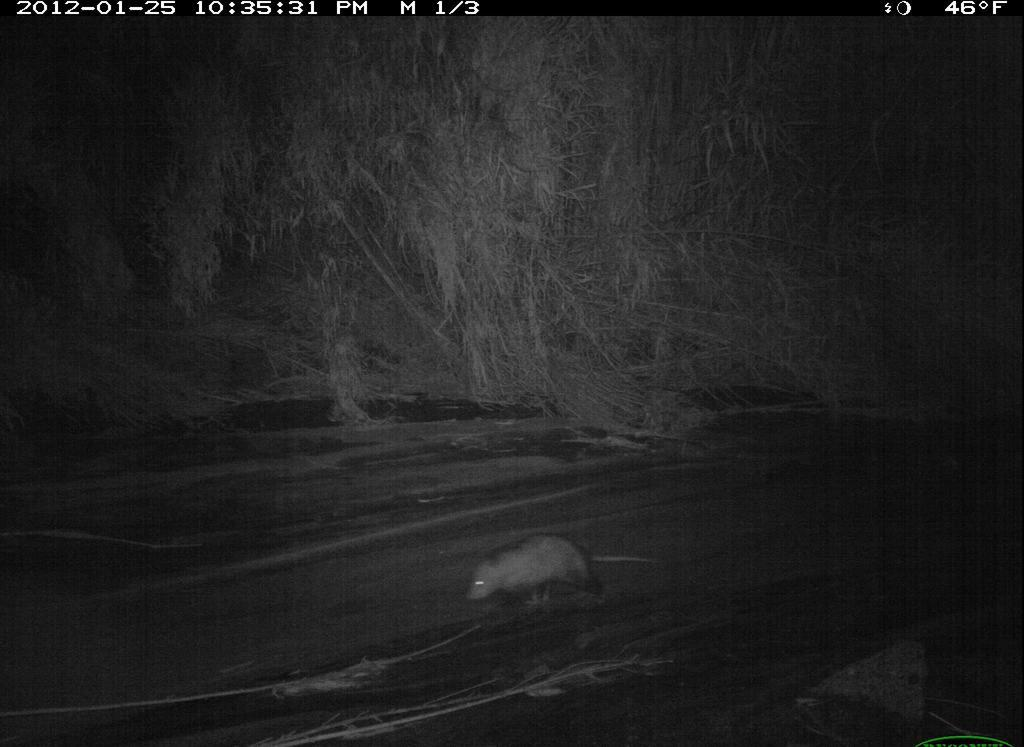opossum: (431, 511, 657, 629)
